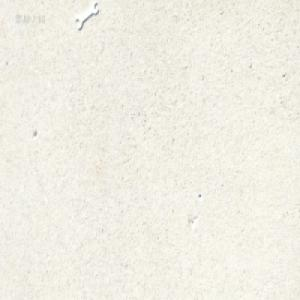Wrench: (75, 6, 98, 33)
